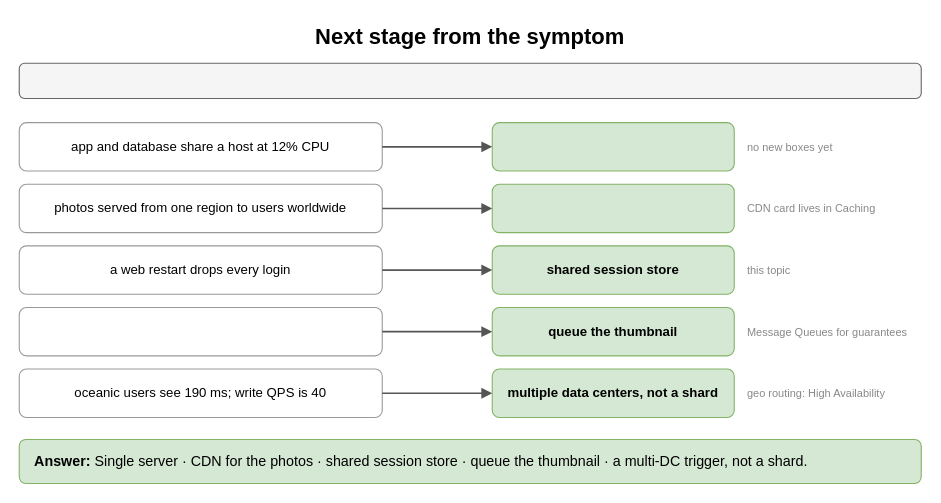
Some shapes in this 941 by 503 pixel diagram are drawn without their labels. Each missing label, with the centre of its shape:
"CDN for those assets" goes at pixel 612 208.
"Name the stage the symptom supports, and refuse the ones it does not" goes at pixel 469 80.
"stay on a single server" goes at pixel 612 146.
"thumbnail work: 700 ms inside a 150 ms budget" goes at pixel 200 331.
